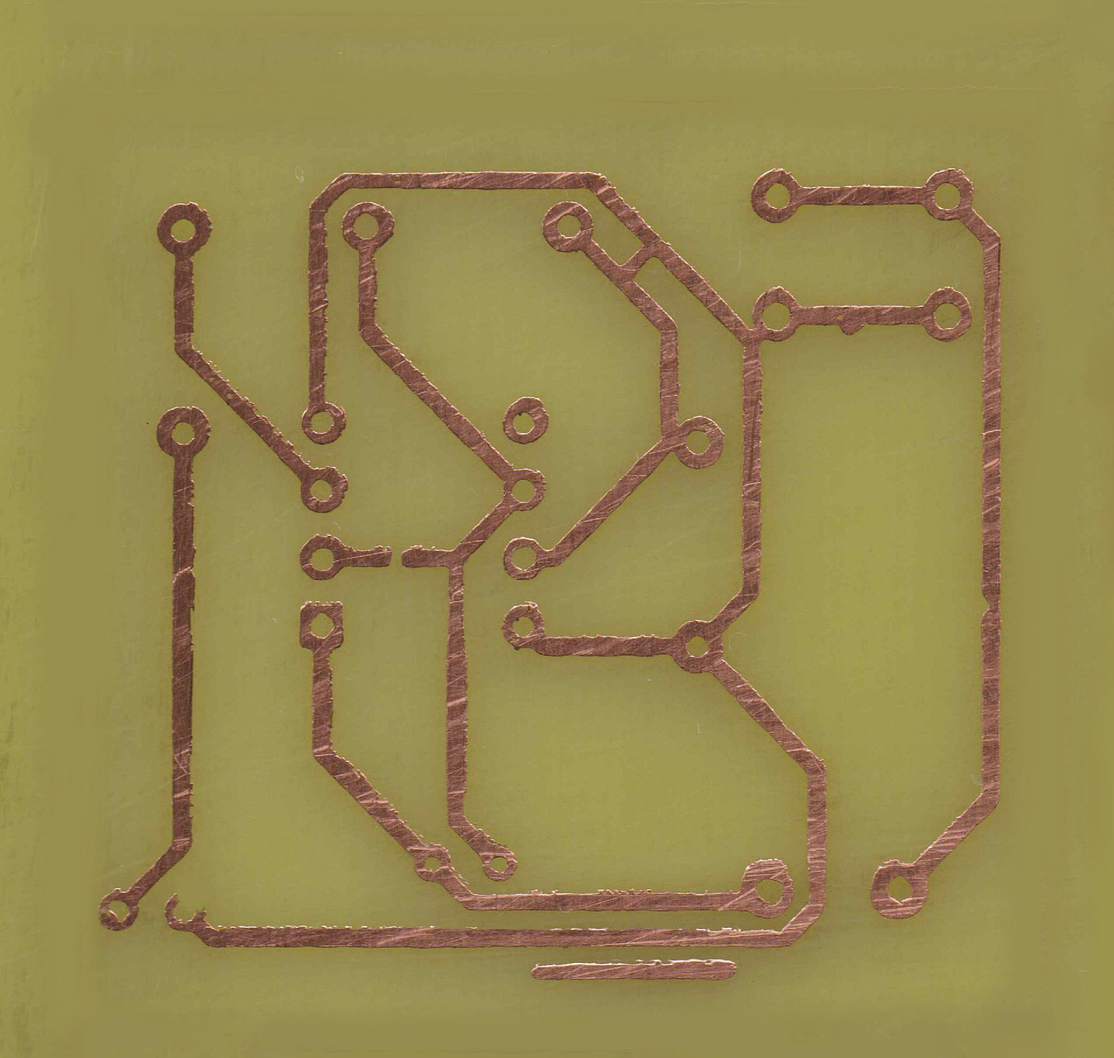missing_hole: (160, 892, 216, 944)
mouse_bite: (975, 583, 1006, 621)
open_circuit: (381, 534, 411, 576)
short: (619, 219, 662, 293)
spur: (835, 301, 869, 343)
spurious_copper: (523, 955, 740, 986)
